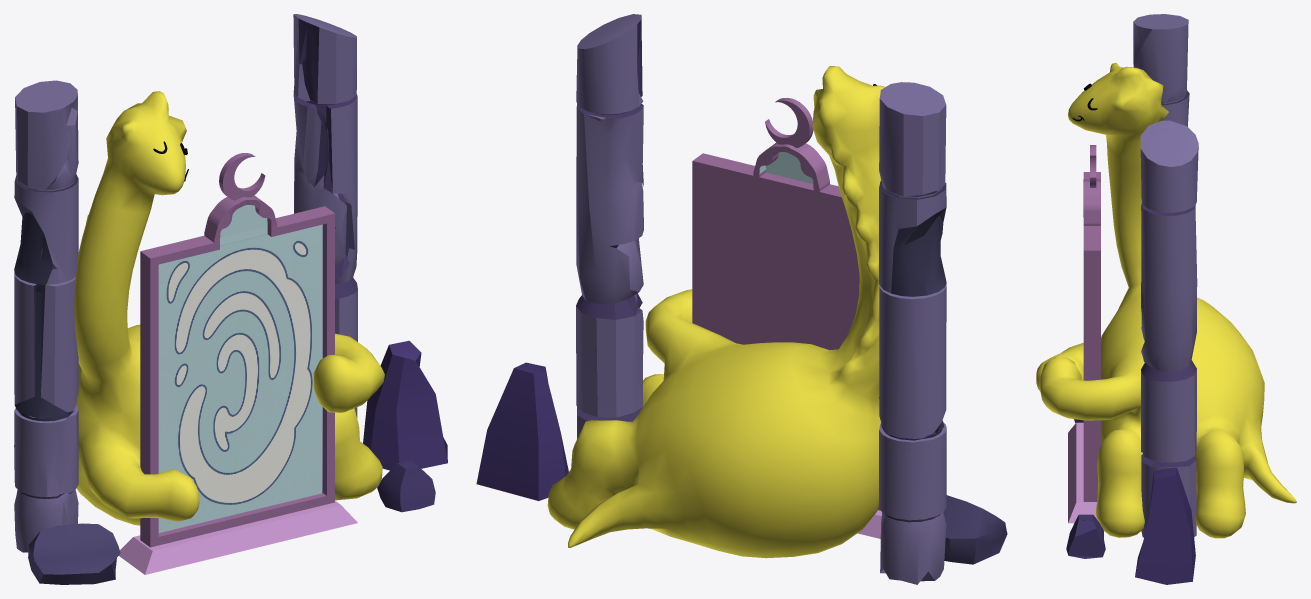
The model's file is Portal_Final.fbx.
The picture shows the model from 3 angles, left to right: view 1: azimuth 30°, elevation 25°; view 2: azimuth 150°, elevation 25°; view 3: azimuth 270°, elevation 25°; orthographic projection. The views are drawn at different scales.
Visible parts, largest first — view 1: Prop_Portal; view 2: Prop_Portal; view 3: Prop_Portal.
Boxes of the visible parts, bbox=[...] form: Prop_Portal: bbox=[14, 14, 447, 584]; Prop_Portal: bbox=[476, 14, 1007, 584]; Prop_Portal: bbox=[1036, 14, 1296, 584].
Bounding box in the file's own units: 905 × 883 × 516.
Materials: 15 (1 with a texture image).
